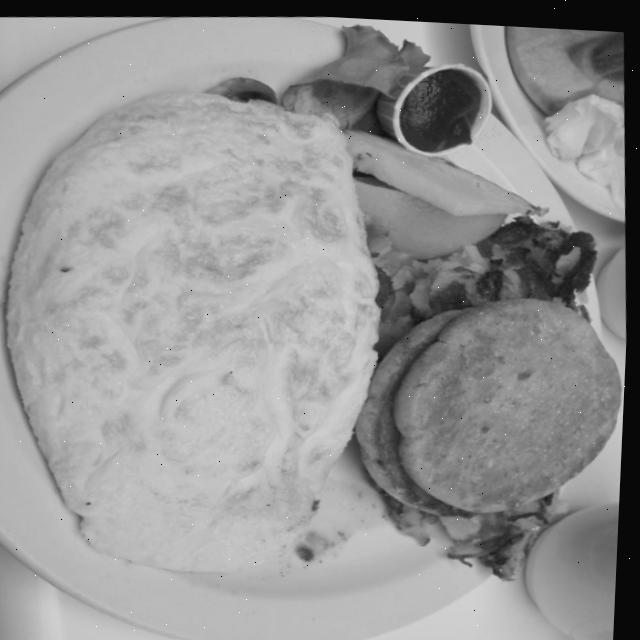鸡蛋料理: (0, 55, 411, 614)
